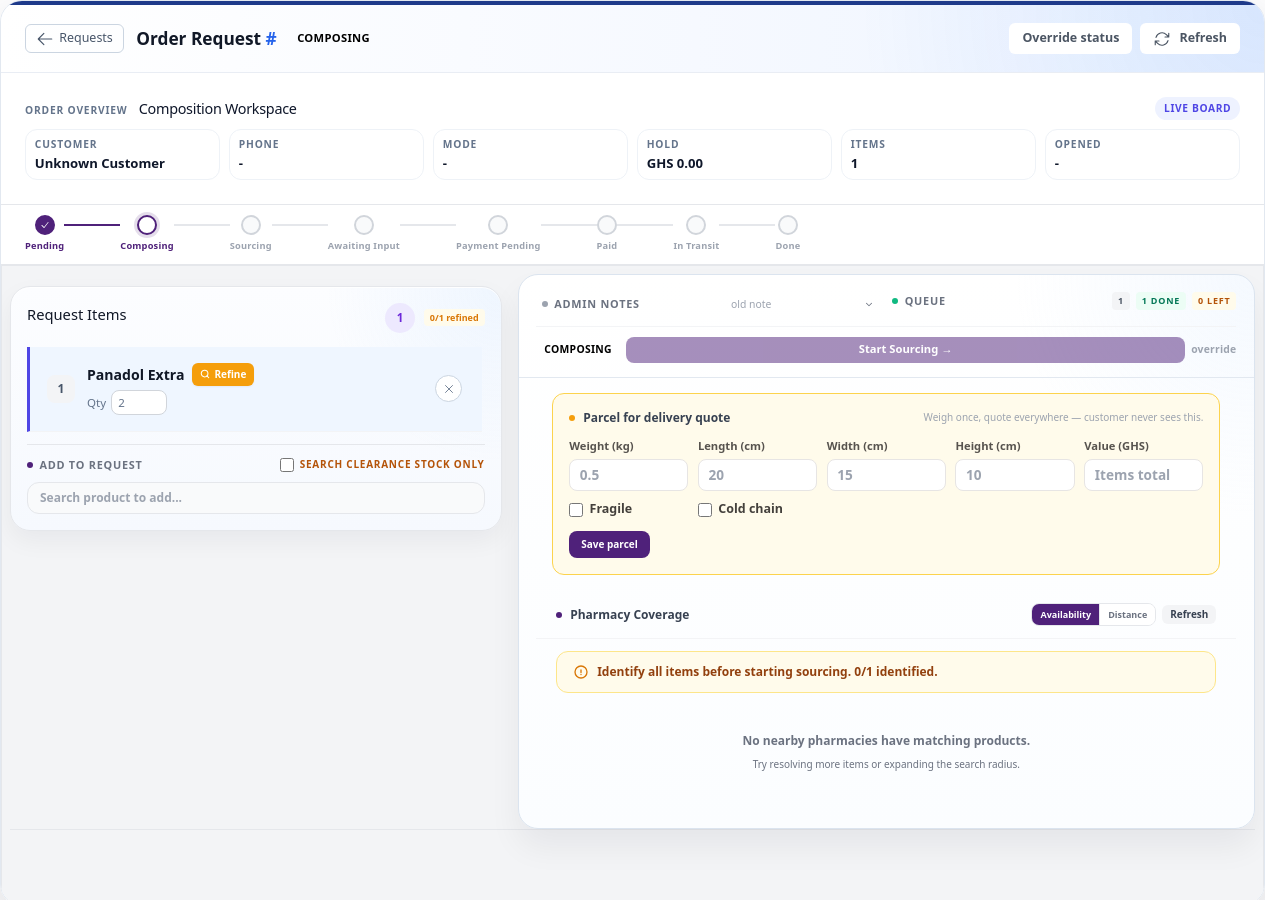
admin notes › says so when saving fails
Click the button "Admin Notes old note".
click(597, 304)  # box [536,292,880,316]
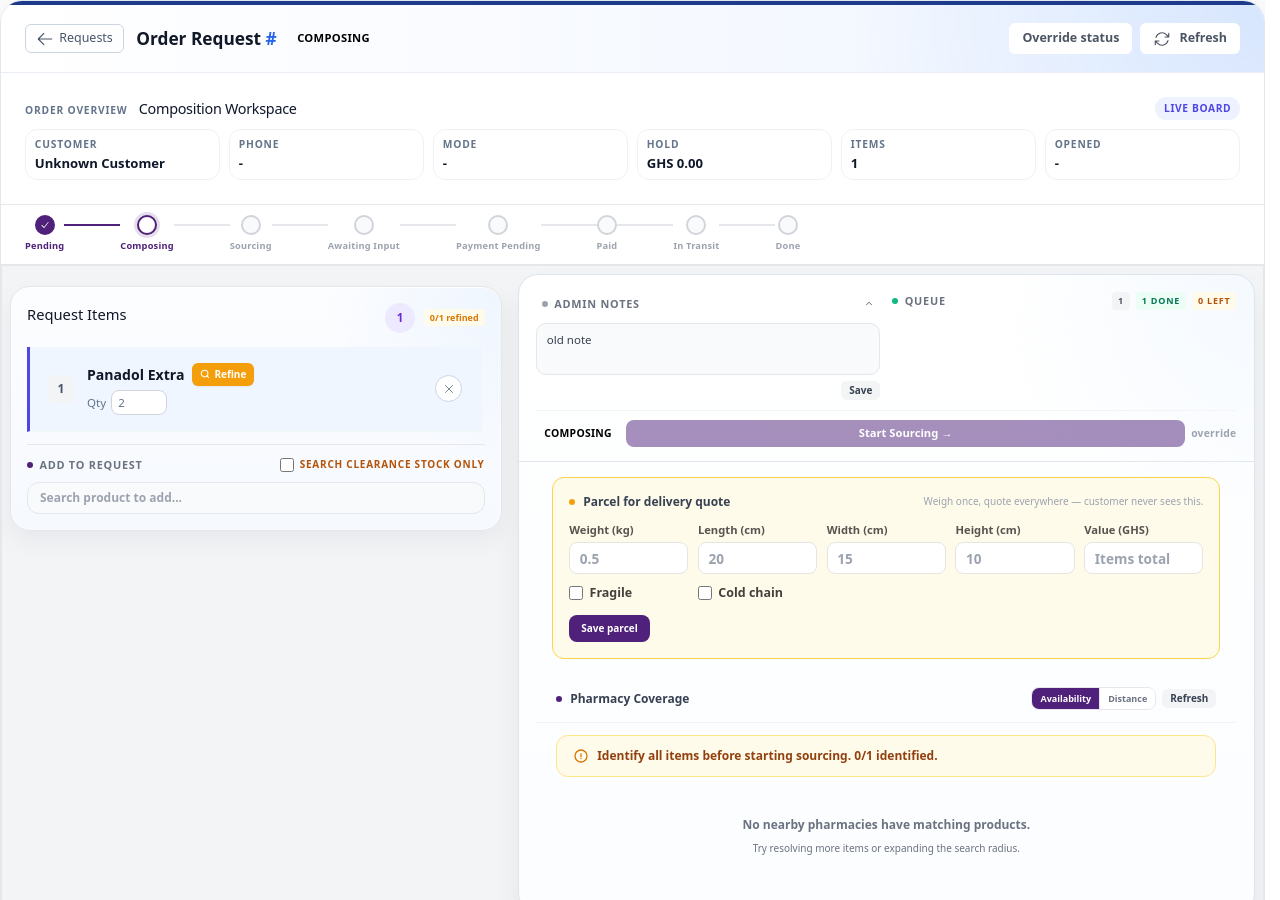
Click the button "Save".
click(861, 391)  # box [841,381,880,400]
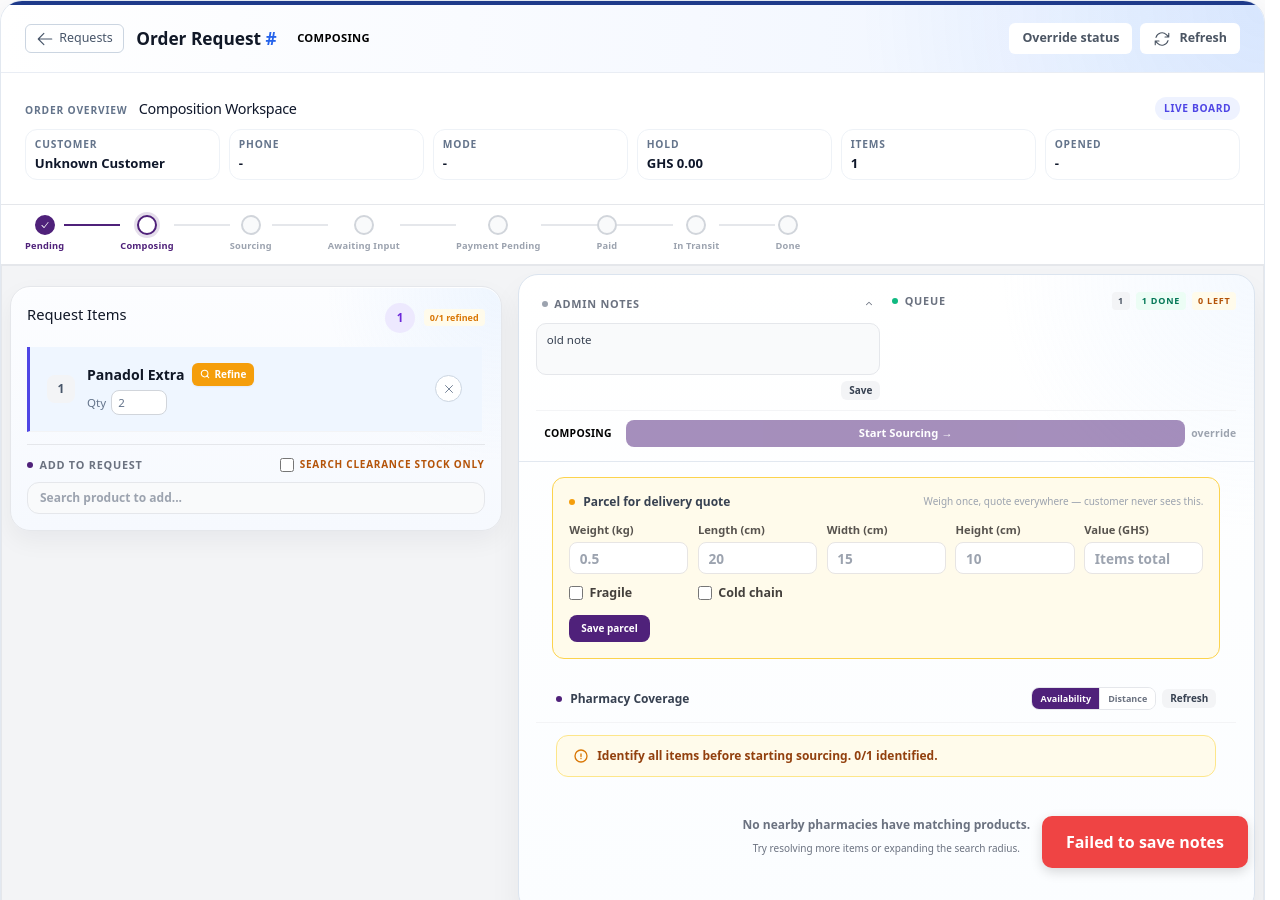
Now the text "Failed to save notes" is shown, box [1042,816,1248,868]
